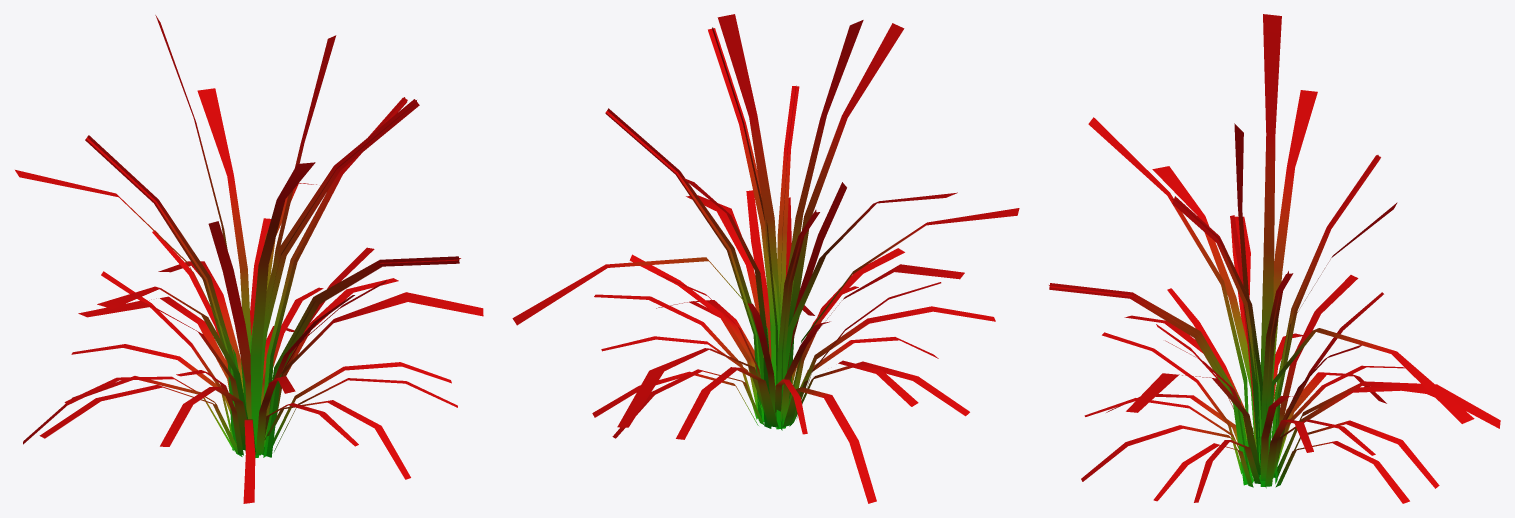
File: White Windflower_LOD2_Var4_sktlN.fbx
3 views of the same model, side by side, from view 1: azimuth 30°, elevation 25°; view 2: azimuth 150°, elevation 25°; view 3: azimuth 270°, elevation 25° (orthographic). The views are drawn at different scales.
Parts seen in each view (by area): view 1: _b542_Var4_LOD2; view 2: _b542_Var4_LOD2; view 3: _b542_Var4_LOD2.
Part boxes in pixels (bbox=[...]): _b542_Var4_LOD2: bbox=[15, 15, 483, 503]; _b542_Var4_LOD2: bbox=[512, 14, 1019, 503]; _b542_Var4_LOD2: bbox=[1049, 14, 1500, 503].
Size of the model in its own units: 66.86 by 74.34 by 71.65.
